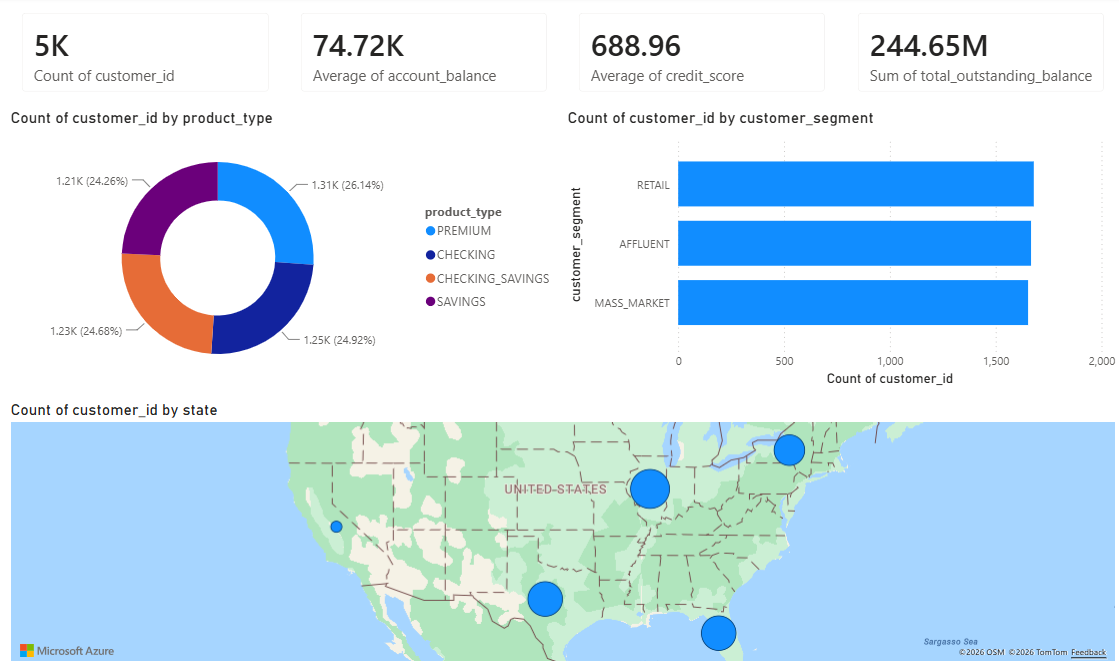

The dashboard page shown, as its layout file describes it:
{"tool":"powerbi","page":{"name":"Customer_Overview","canvas":[1280,720],"ordinal":0},"visuals":[{"type":"cardVisual","fields":{"Data":["Count(customer_360.customer_id)"]},"box":[10.1,0,300,119.7],"z":0},{"type":"cardVisual","fields":{"Data":["Avg(customer_360.account_balance)"]},"box":[309.9,0,299.9,119.7],"z":1000},{"type":"cardVisual","fields":{"Data":["Avg(customer_360.credit_score)"]},"box":[609.8,0,299.9,119.7],"z":2000},{"type":"cardVisual","fields":{"Data":["Sum(customer_360.total_outstanding_balance)"]},"box":[909.7,0,299.9,119.7],"z":3000},{"type":"donutChart","fields":{"Category":["customer_360.product_type"],"Y":["Count(transaction_risk_scores.customer_id)"]},"box":[10.1,119.7,599.7,303.9],"z":4000},{"type":"clusteredBarChart","fields":{"Category":["customer_360.customer_segment"],"Y":["Count(customer_360.customer_id)"]},"box":[609.8,119.7,599.7,303.9],"z":5000},{"type":"azureMap","fields":{"Category":["customer_360.state"],"Size":["Count(customer_360.customer_id)"]},"box":[10.1,433.7,1199.5,285.8],"z":6000}]}

Visuals, with their boxes on the page's 1280x720 design canvas (x1, y1, x2, y2). These are canvas units, not pixel positions in the 1119x663 screenshot, which may show the page scaled, cropped or inside an application window:
cardVisual - Count(customer_360.customer_id): <region>10, 0, 310, 120</region>
cardVisual - Avg(customer_360.account_balance): <region>310, 0, 610, 120</region>
cardVisual - Avg(customer_360.credit_score): <region>610, 0, 910, 120</region>
cardVisual - Sum(customer_360.total_outstanding_balance): <region>910, 0, 1210, 120</region>
donutChart - customer_360.product_type x Count(transaction_risk_scores.customer_id): <region>10, 120, 610, 424</region>
clusteredBarChart - customer_360.customer_segment x Count(customer_360.customer_id): <region>610, 120, 1210, 424</region>
azureMap - customer_360.state x Count(customer_360.customer_id): <region>10, 434, 1210, 720</region>
